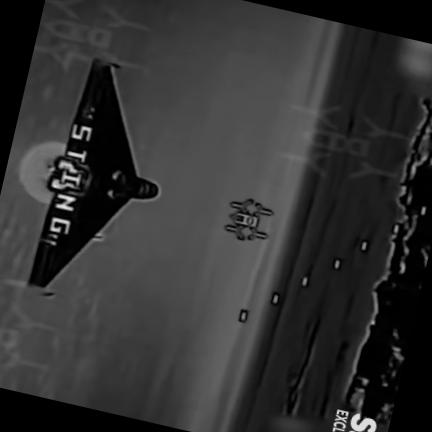Shahed: (26, 59, 159, 290)
